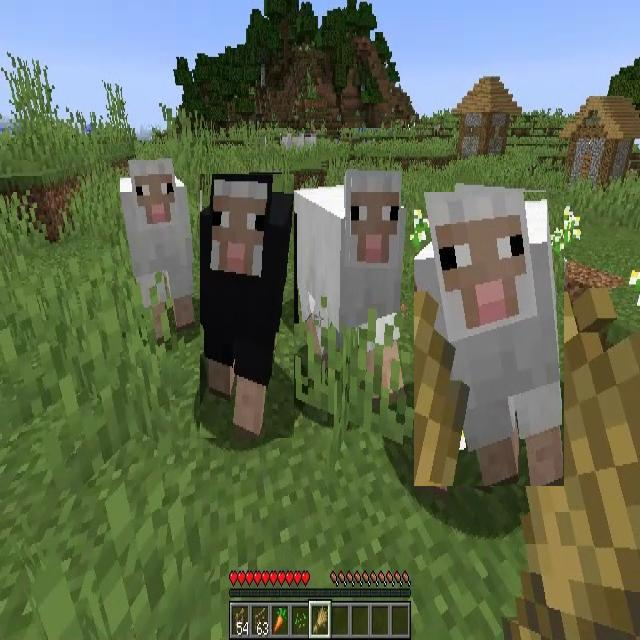flower: (554, 206, 580, 247)
sheep: (414, 192, 564, 486), (294, 172, 408, 402), (200, 174, 294, 438), (120, 160, 194, 339), (281, 131, 292, 150), (292, 134, 304, 151), (305, 133, 316, 149)
